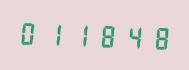eight: (93, 19, 117, 50), (143, 21, 167, 52)
four: (118, 20, 142, 51)
one: (42, 18, 66, 49), (68, 19, 92, 49)
zero: (17, 17, 41, 48)
